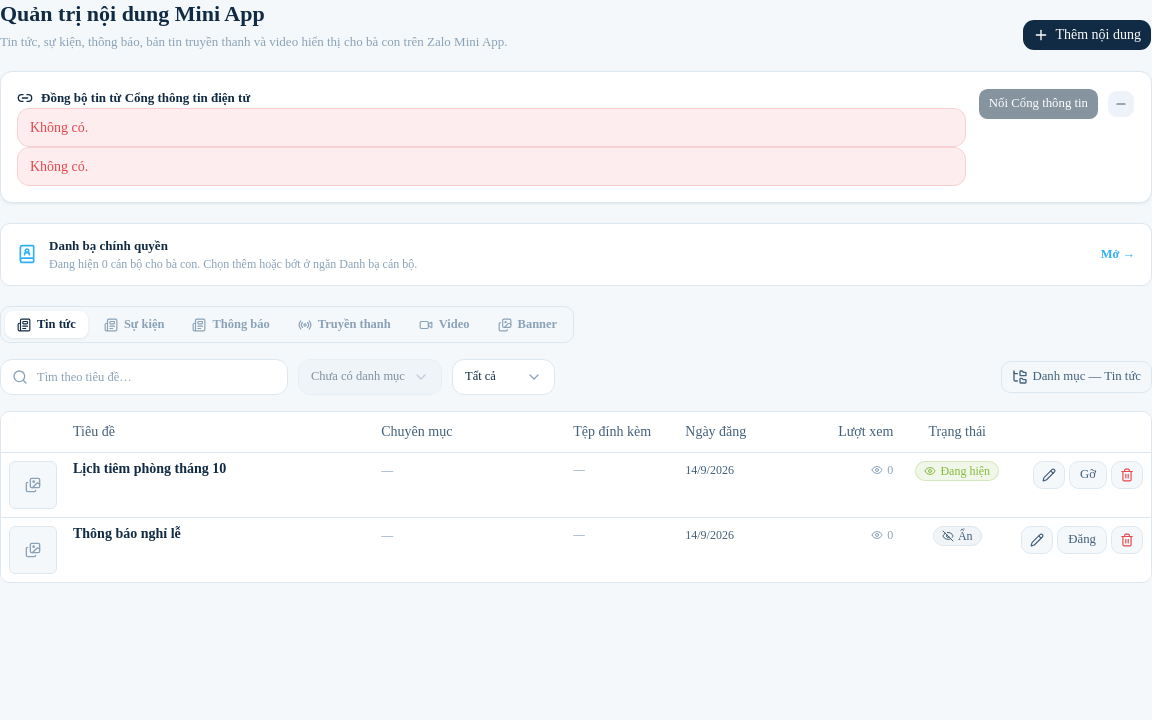
Test case: Thêm nội dung › the new item's type is the tab being looked at
Click the tab "Truyền thanh": (344, 324) [286, 311, 403, 338]
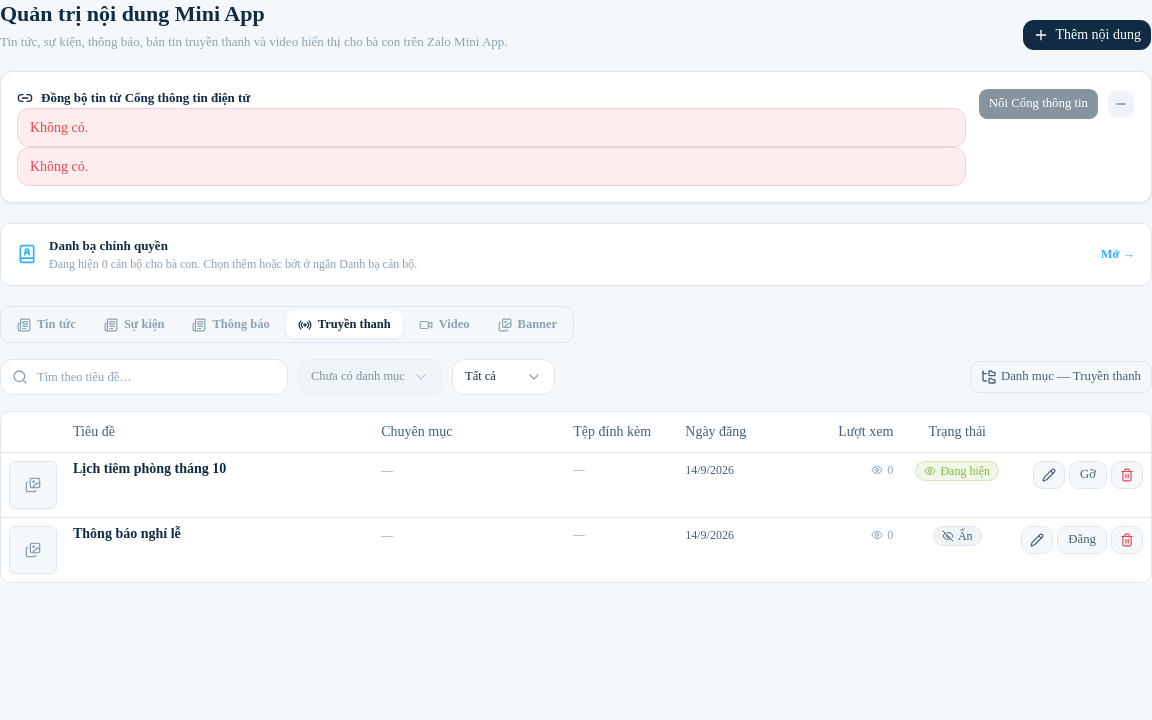
Click the button "Thêm nội dung": (1087, 35) [1022, 19, 1151, 51]
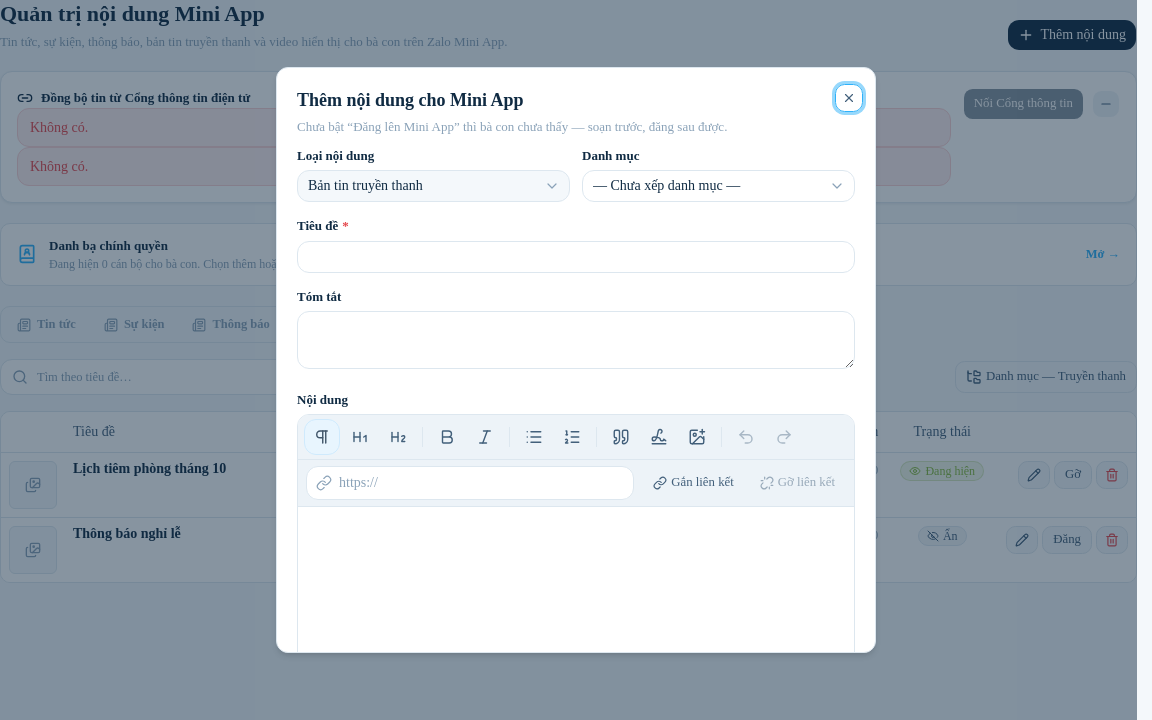
Result: the dropdown with id "loai-noi-dung" shows "Bản tin truyền thanh" at [297, 170, 570, 202]
Result: the dropdown with id "loai-noi-dung" is enabled at [297, 170, 570, 202]
